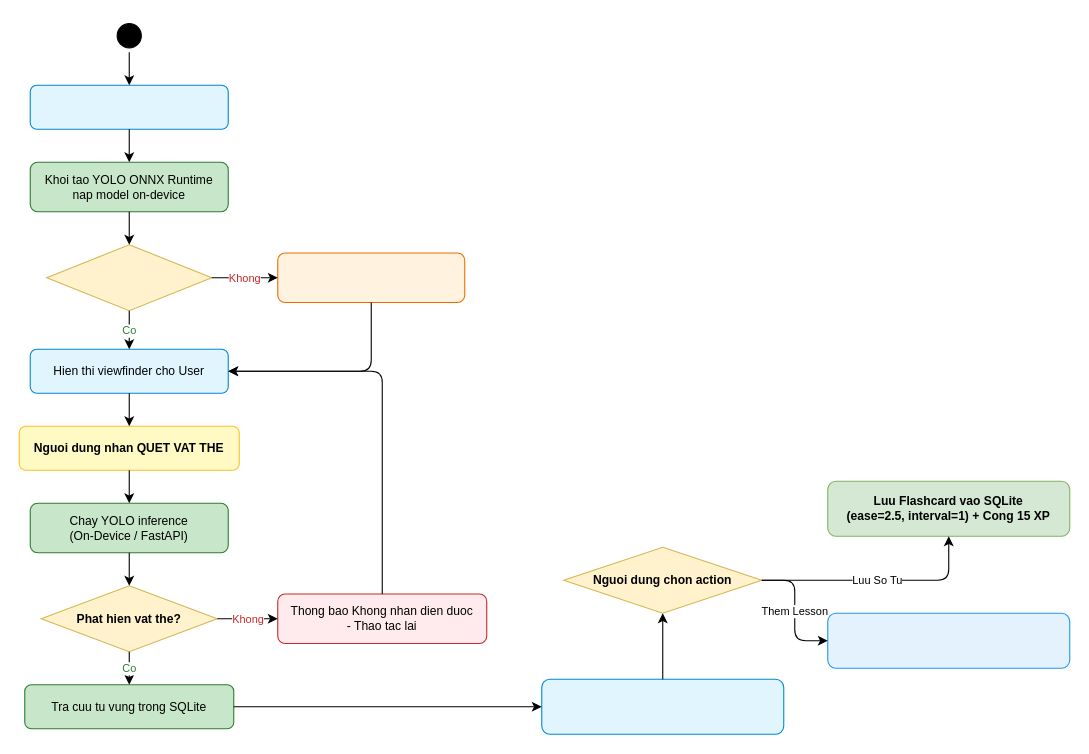
Image size: 1089x754. Some labels were removed from this diagram. The shapes that lost their labels are listed below. From the top down, each one's box as (x1, y1, x2, y2) in pixels, then its label:
(29, 84, 228, 129): Mo Object Scanner Screen
(46, 244, 212, 311): Model kha dung?
(277, 252, 465, 302): Chuyen sang FastAPI AI Microservice mode
(827, 612, 1070, 668): Them tu vao Lesson Hien thi toast thanh cong
(541, 678, 784, 734): Hien thi Bottom Sheet Tu Vung & Auto Play TTS Audio
